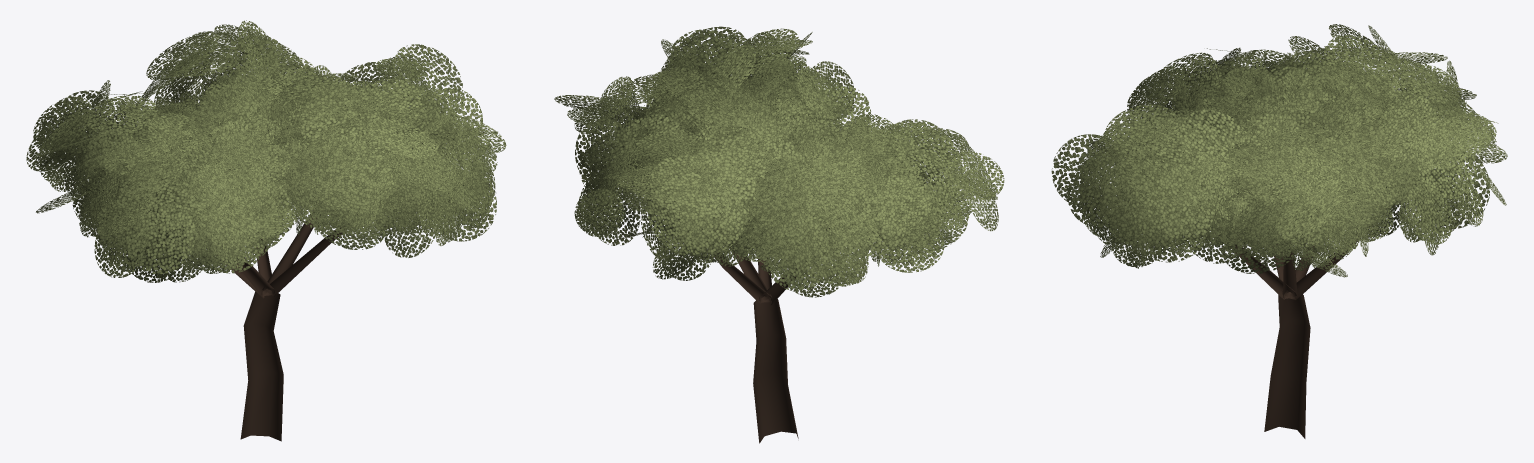
Rendered from caral_huarango_lod0.glb.
3 views of the same model, side by side, from view 1: azimuth 30°, elevation 25°; view 2: azimuth 150°, elevation 25°; view 3: azimuth 270°, elevation 25° (orthographic). The views are drawn at different scales.
Visible parts, largest first — view 1: GEO-Kit_huarango_LOD0; view 2: GEO-Kit_huarango_LOD0; view 3: GEO-Kit_huarango_LOD0.
Boxes of the visible parts, x1,y1,x2,y2 form: GEO-Kit_huarango_LOD0: [26, 20, 506, 441]; GEO-Kit_huarango_LOD0: [554, 26, 1004, 443]; GEO-Kit_huarango_LOD0: [1051, 24, 1507, 438].
Bounding box in the file's own units: 7.5 × 6.14 × 7.13.
Materials: 2 (1 with a texture image).
